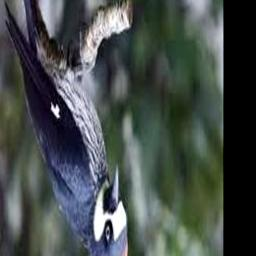Woodpecker: (4, 0, 127, 256)
